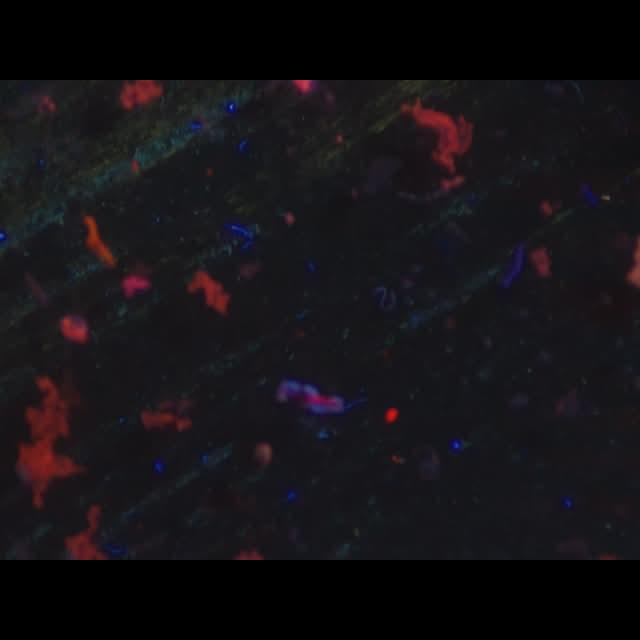Fragment: (16, 376, 80, 508)
